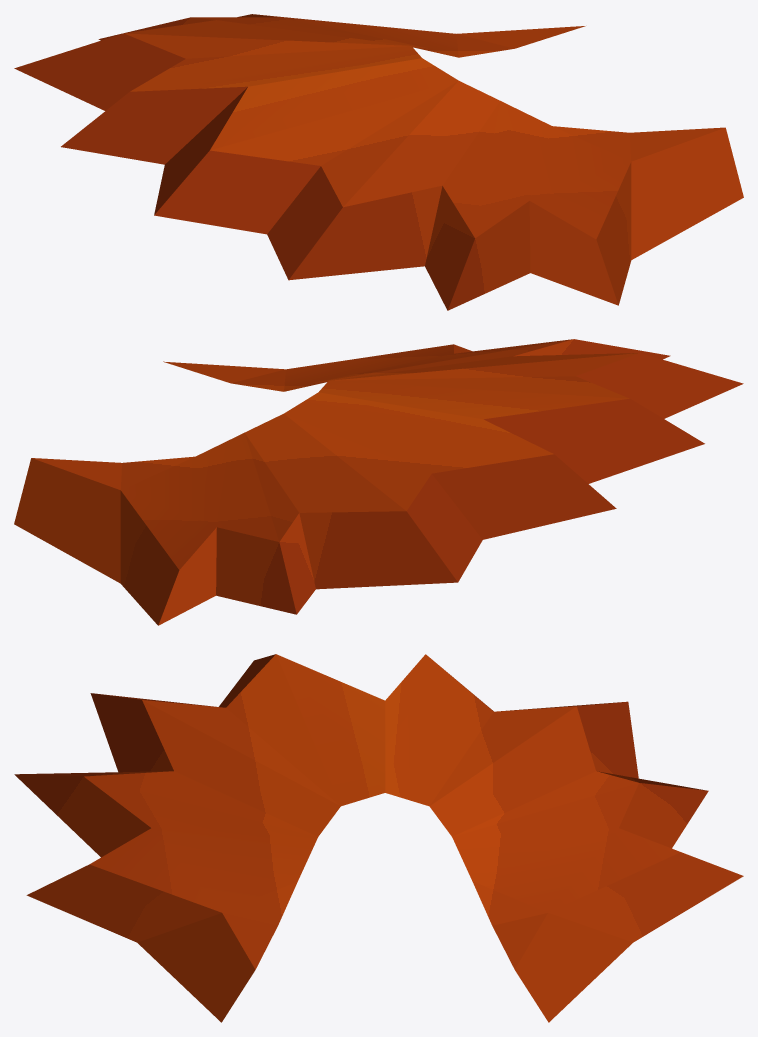
File: chicky_power1.glb
The picture shows the model from 3 angles, top to bottom: view 1: azimuth 30°, elevation 25°; view 2: azimuth 150°, elevation 25°; view 3: azimuth 270°, elevation 25°; orthographic projection. The views are drawn at different scales.
Visible parts, largest first — view 1: chicky_power1; view 2: chicky_power1; view 3: chicky_power1.
Boxes of the visible parts, x1=… form: chicky_power1: x1=14, y1=14, x2=743, y2=310; chicky_power1: x1=14, y1=339, x2=743, y2=625; chicky_power1: x1=14, y1=654, x2=743, y2=1022.
Size of the model in its own units: 3.51 by 0.8736 by 4.16.
1 material, 1 textured.
